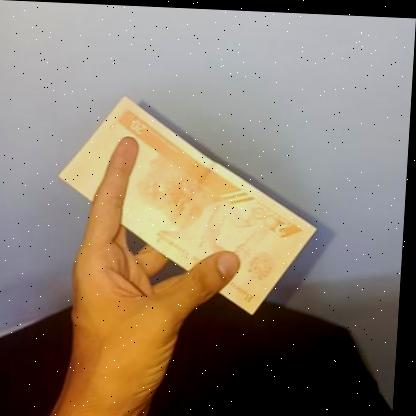twenty-back-vef: (54, 90, 326, 315)
